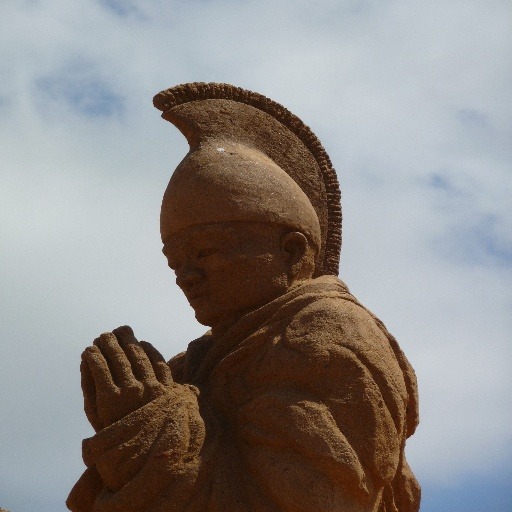hand: (80, 327, 219, 484), (80, 325, 119, 432)
